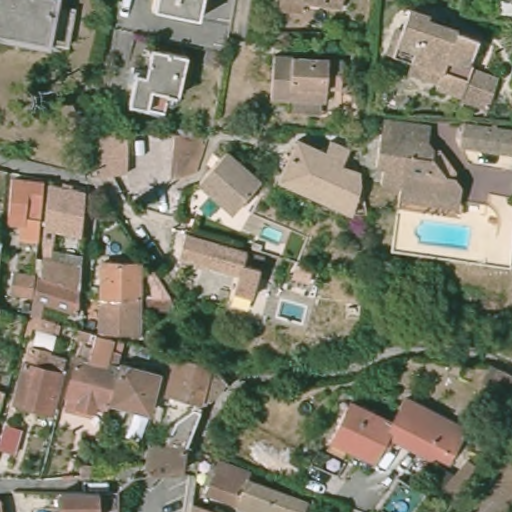pool: (412, 212, 477, 252), (273, 296, 315, 330), (256, 223, 287, 244), (195, 196, 222, 219)
